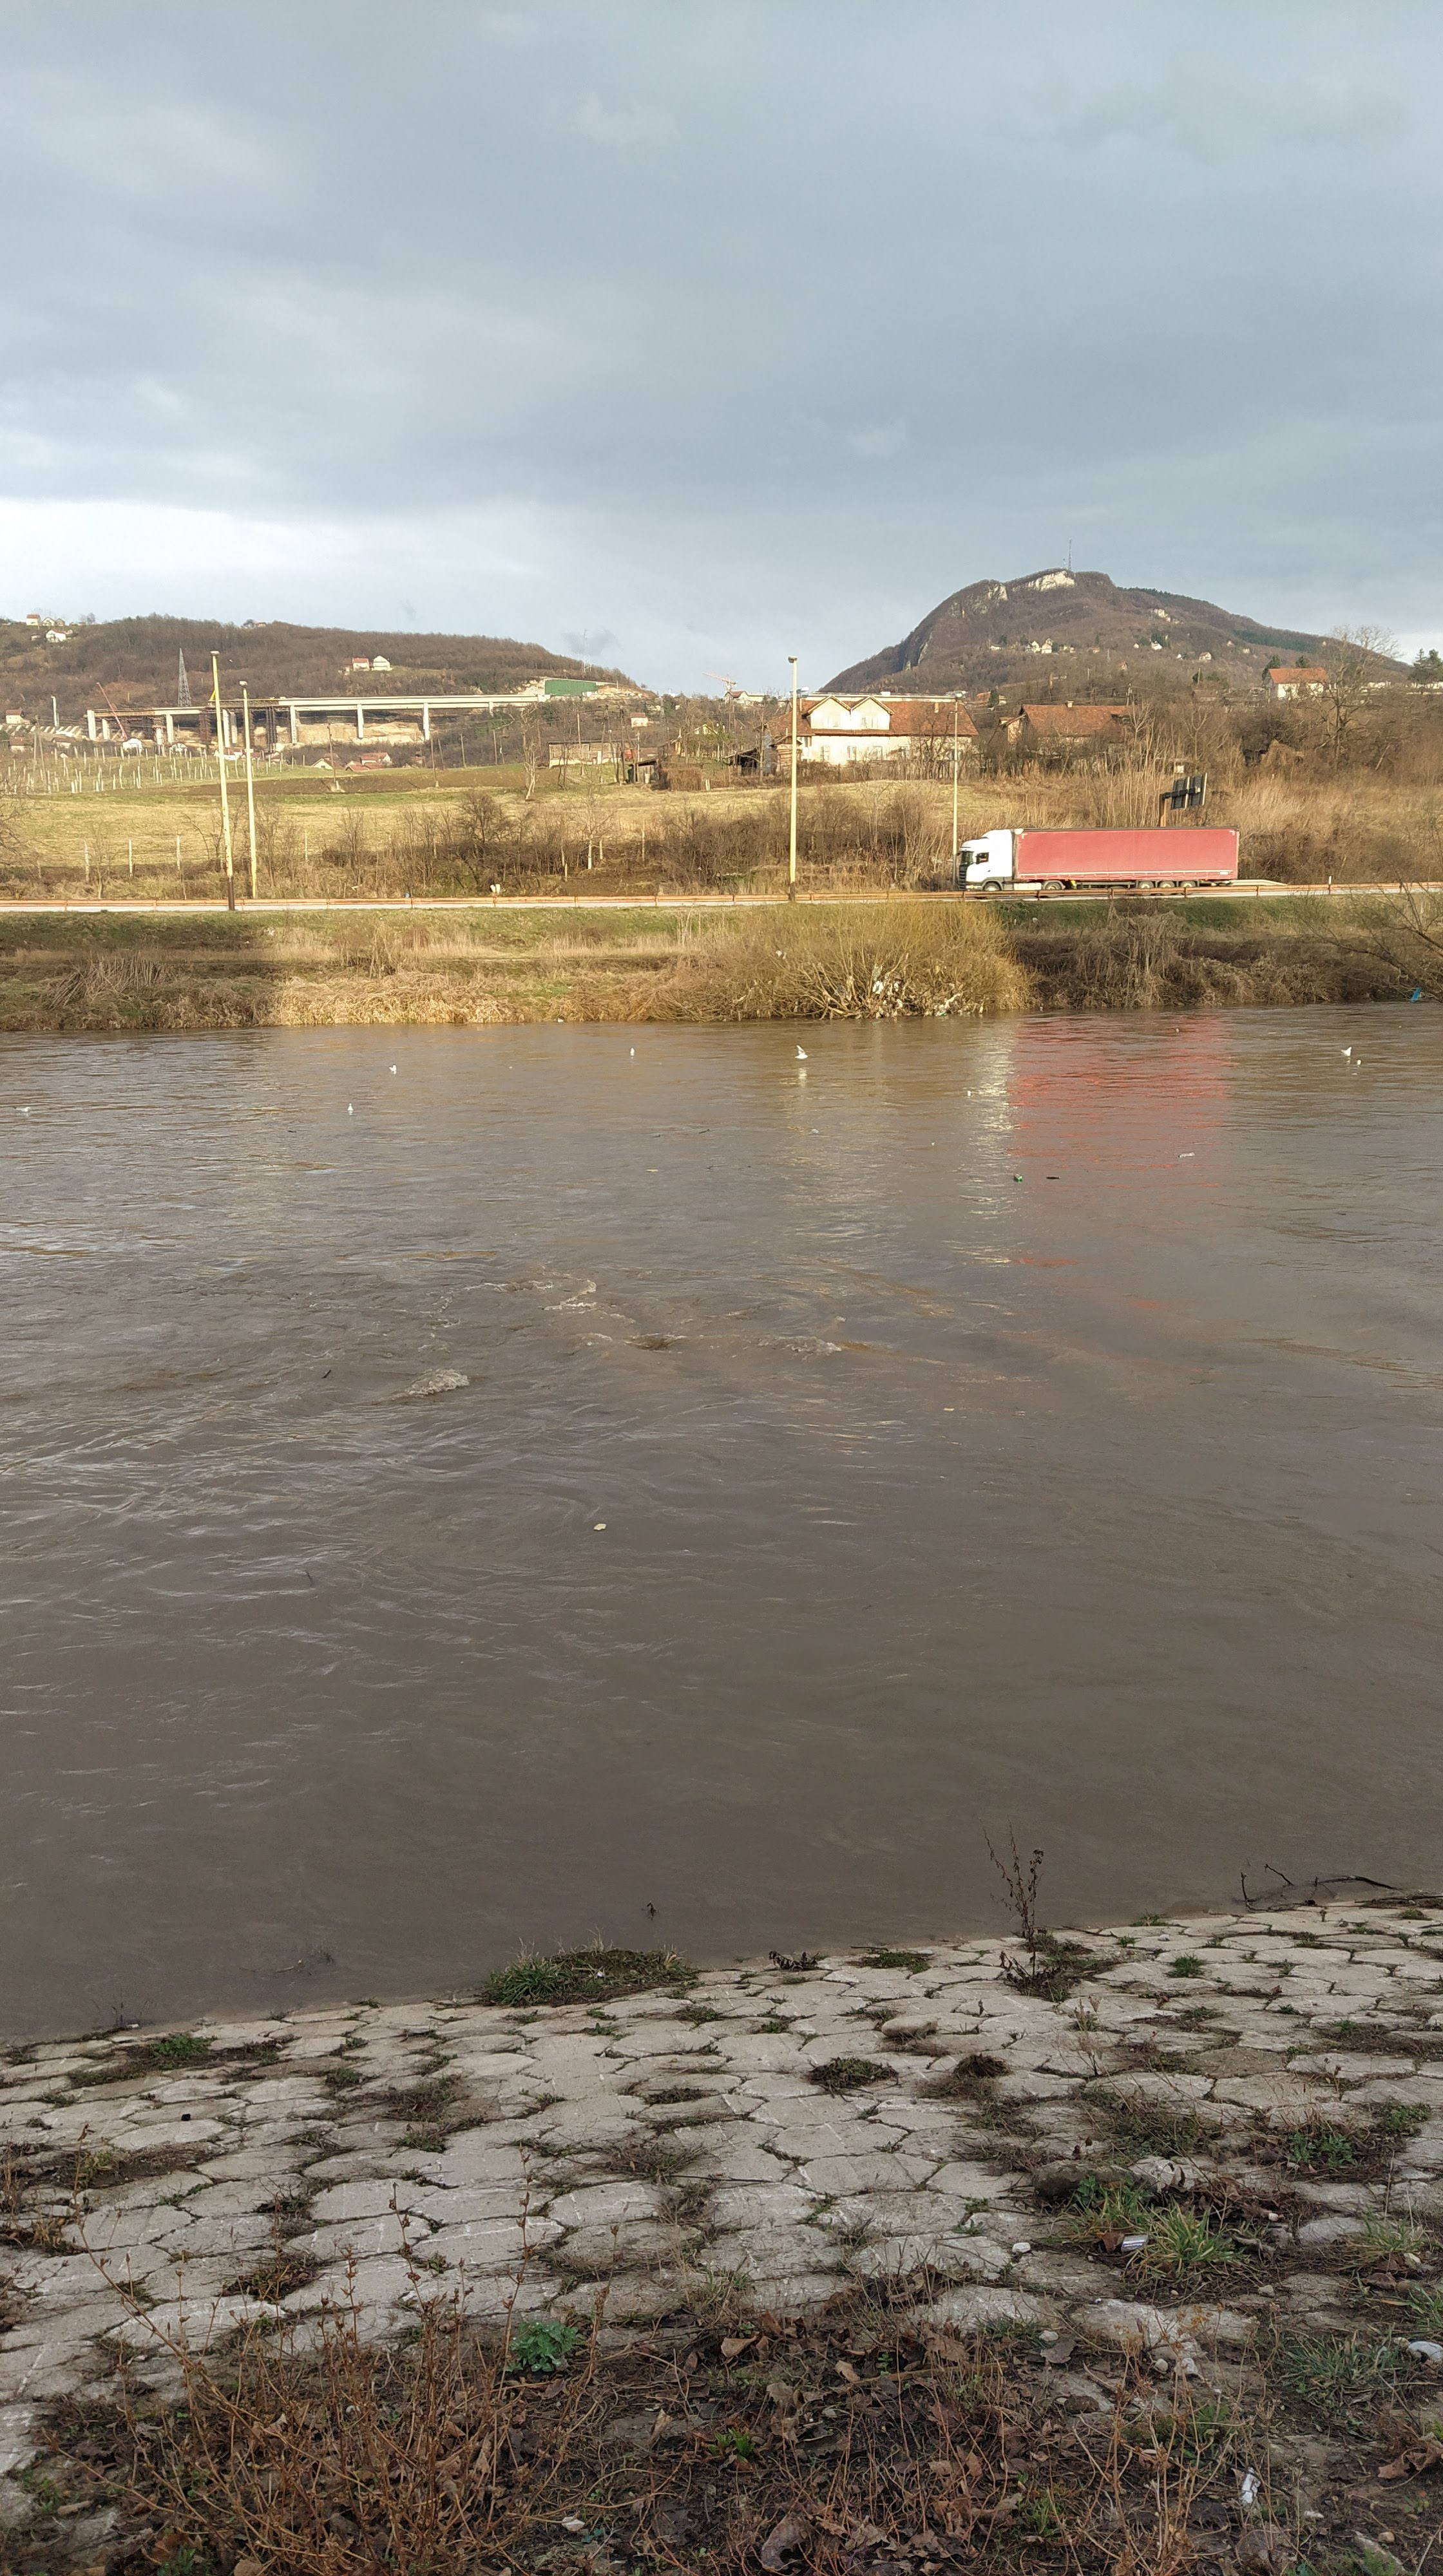Plastic Bottle: (1177, 1150, 1193, 1157), (347, 1102, 354, 1111), (1013, 1173, 1022, 1180), (967, 1090, 970, 1097), (813, 1129, 816, 1134), (630, 1047, 634, 1053), (1358, 1060, 1362, 1065)
